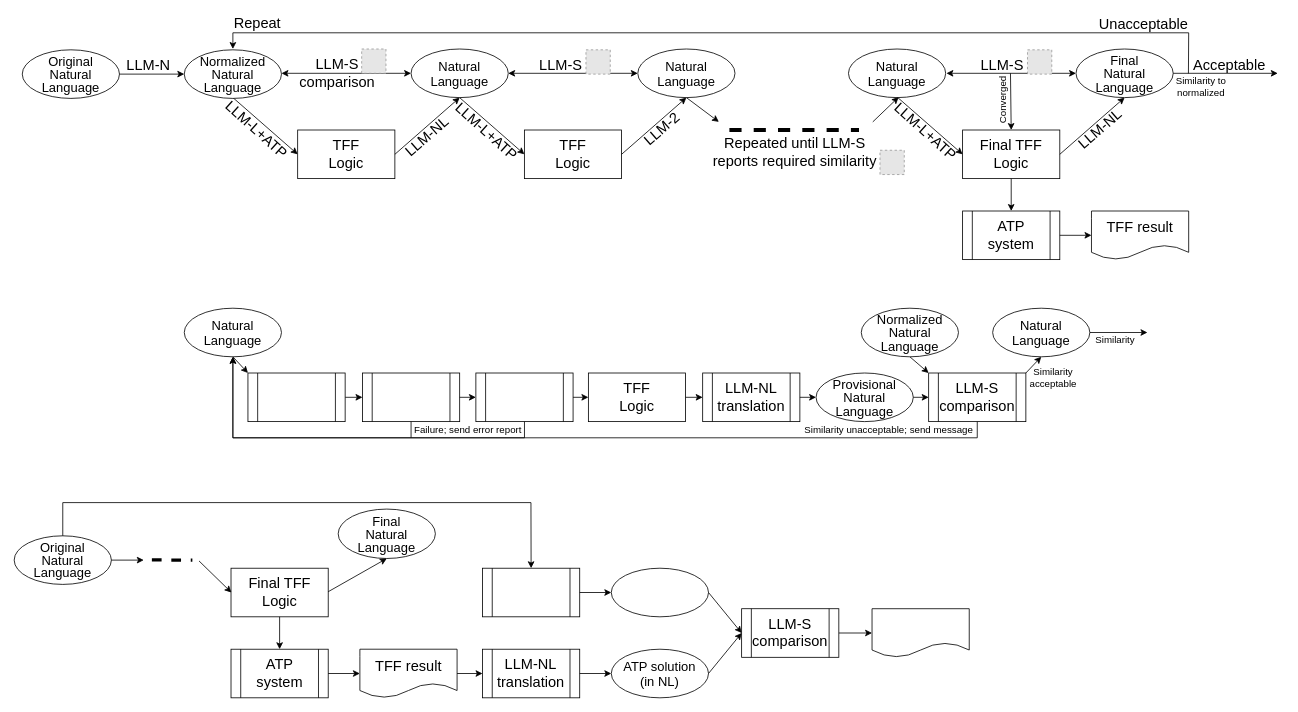
Some shapes in this 1298 by 712 pixel diagram are drawn without their labels. Grey dashed boxes stand in for pictures. Here are the shapes that lost their labels. From the top down, the centre of each, then its label:
(296,397): LLM-L translation
(411,397): Syntax check
(524,397): Type check
(531,592): LLM-N prompt
(659,592): LLM solution (in NL)
(920,632): Report
